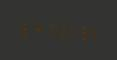four: (28, 17, 38, 38)
one: (83, 21, 93, 42), (61, 20, 71, 40)
seven: (39, 18, 49, 39)
three: (72, 21, 82, 41)
two: (17, 17, 27, 37)
zero: (50, 19, 60, 40)
